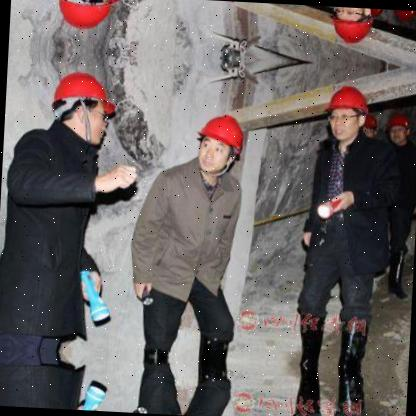capacete: (46, 64, 124, 124), (192, 106, 248, 158), (318, 80, 374, 126), (385, 106, 415, 137)
